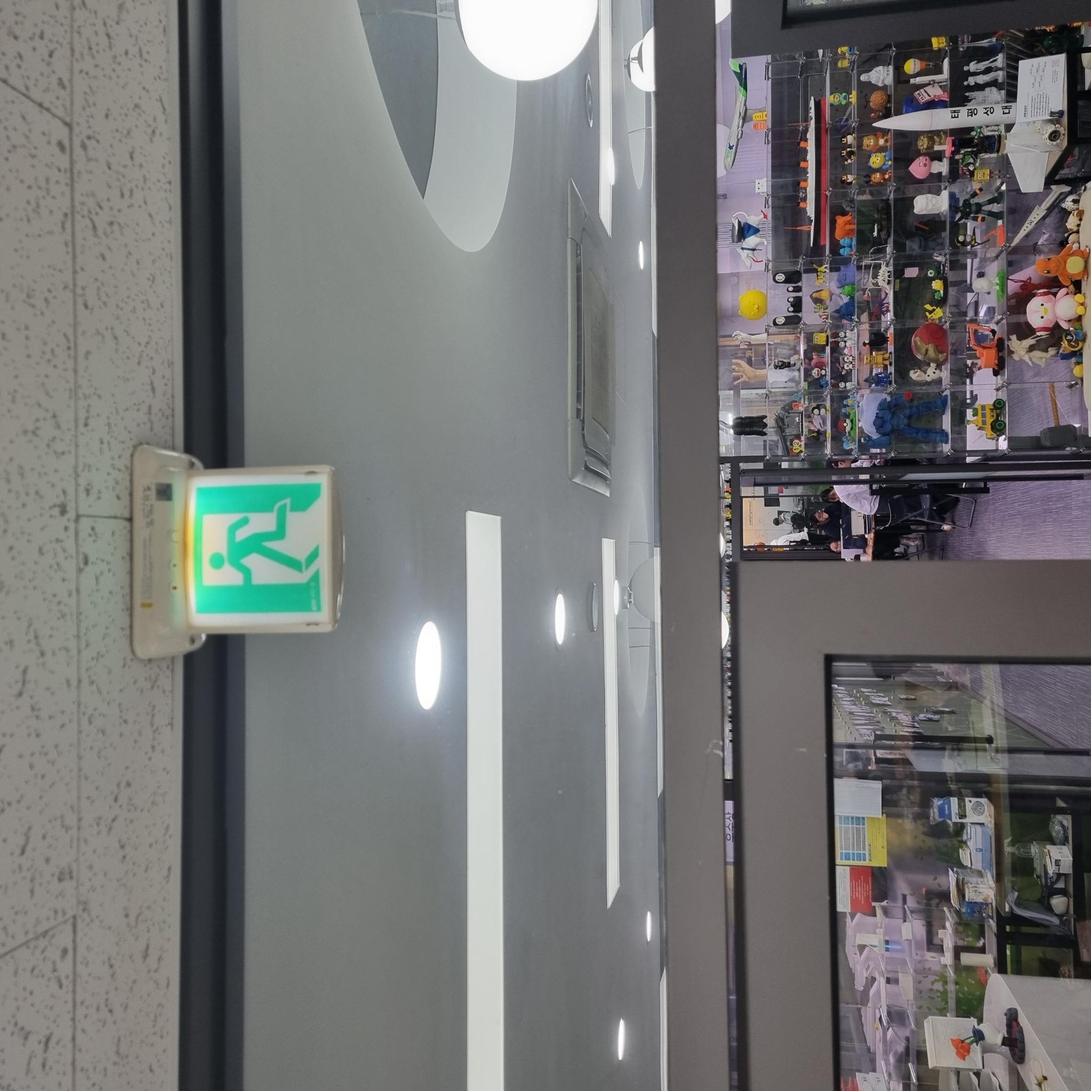emergency_exit: (129, 441, 345, 661), (181, 463, 342, 635)
